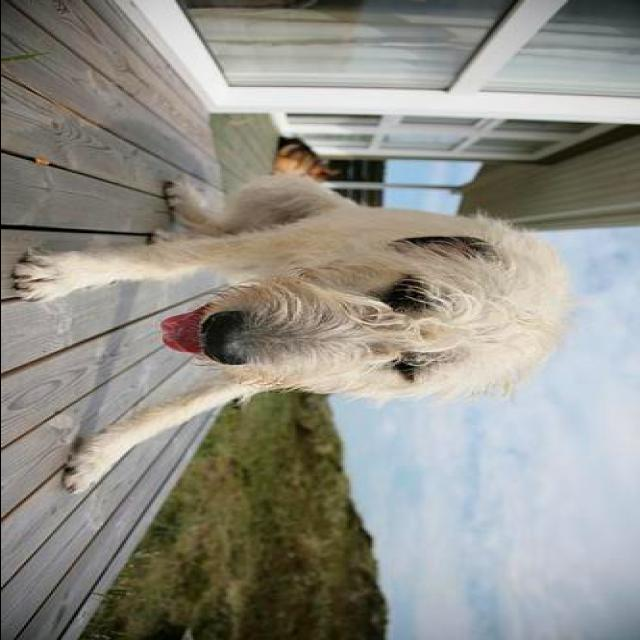irish_wolfhound: (16, 166, 576, 492)
